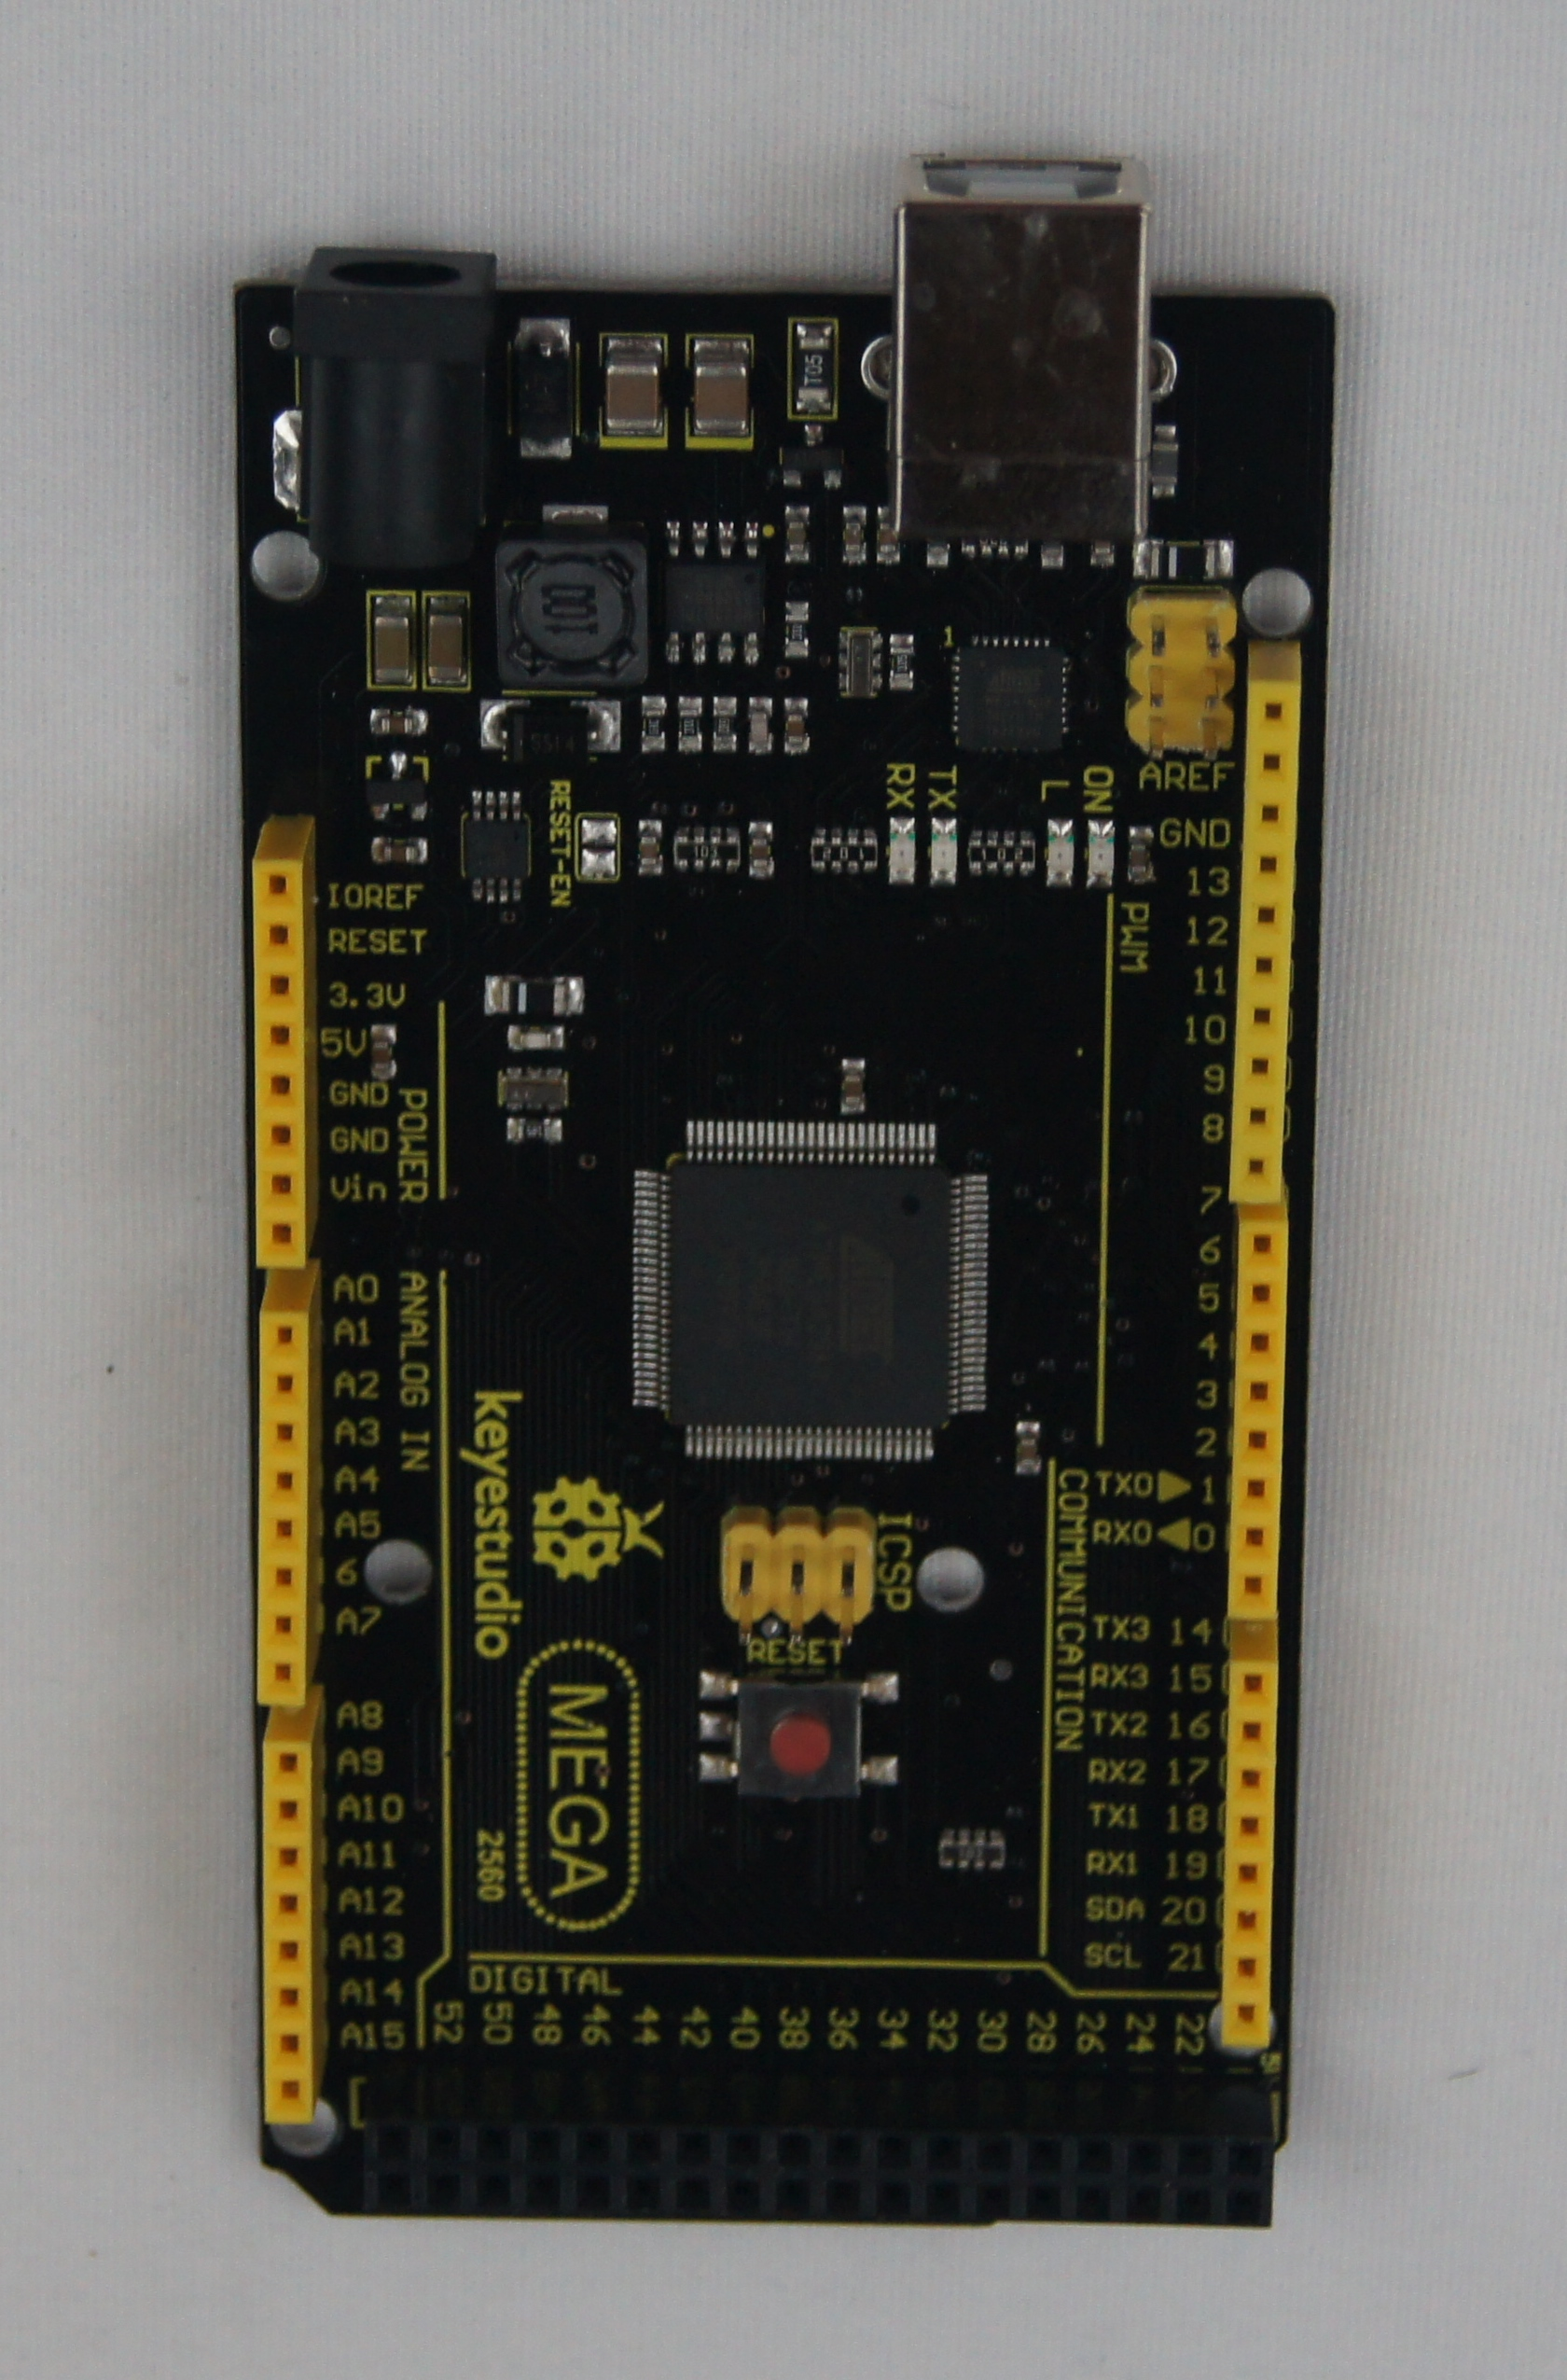connector: (362, 2100, 1271, 2228), (290, 241, 498, 572), (1228, 658, 1296, 1212), (241, 841, 318, 1275), (1226, 1212, 1291, 1625), (257, 1729, 320, 2125), (255, 1303, 315, 1708), (715, 1504, 876, 1651), (1221, 1644, 1278, 2049), (1123, 582, 1242, 761)
